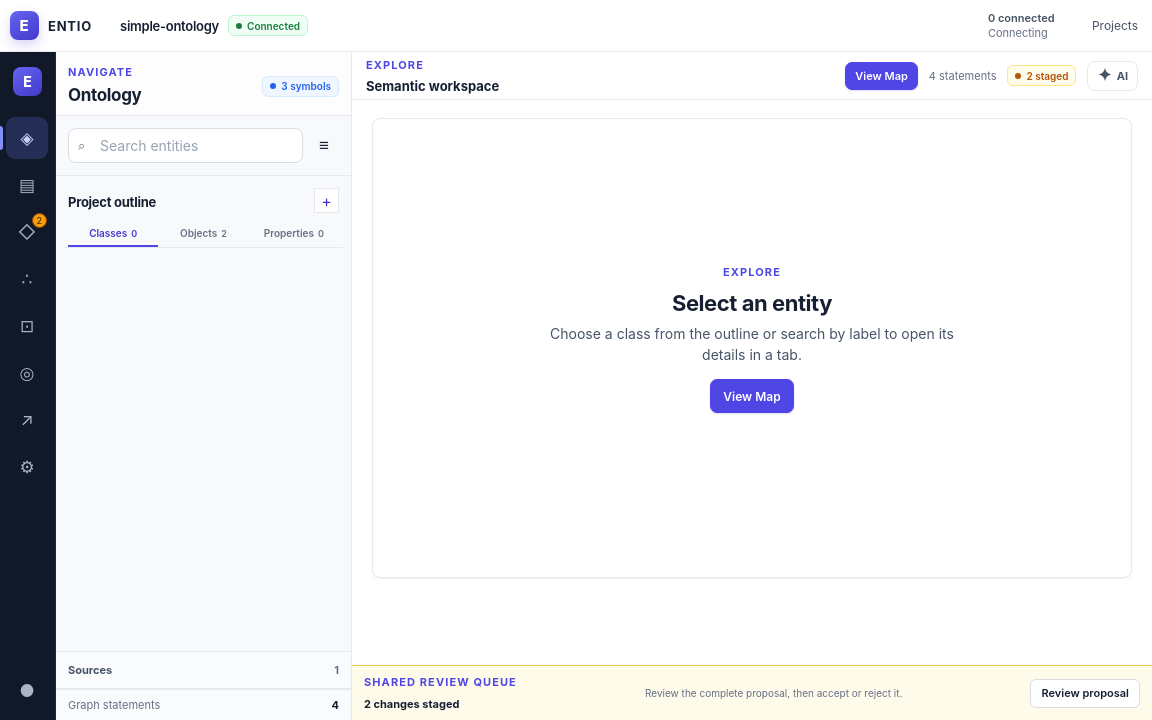
it: web workbench shell › opens a staged individual from the normal object outline
This screenshot has width=1152, height=720.
Click the tab "Objects 2" at [203, 234], box [158,220,249,247]
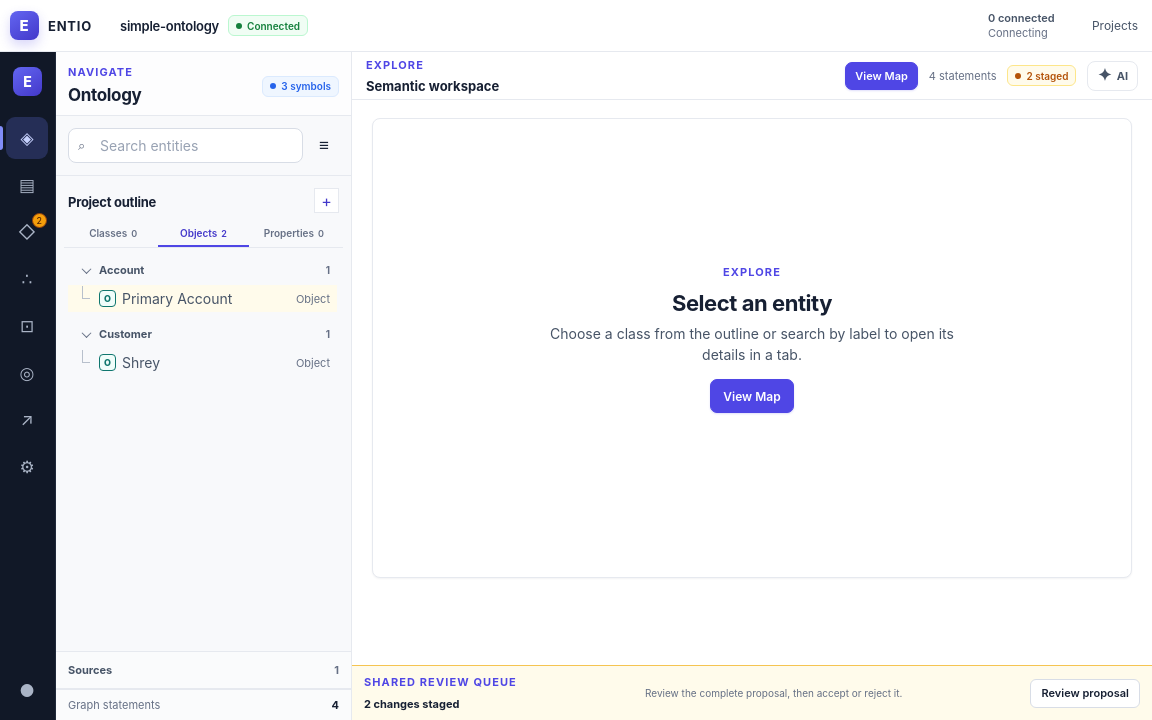
Expected: the button with class "object-group-label" reads "Account", [99,263,144,277]
Click the button with aria-label "Primary Account, Object" at [202, 298], box [68,285,337,312]
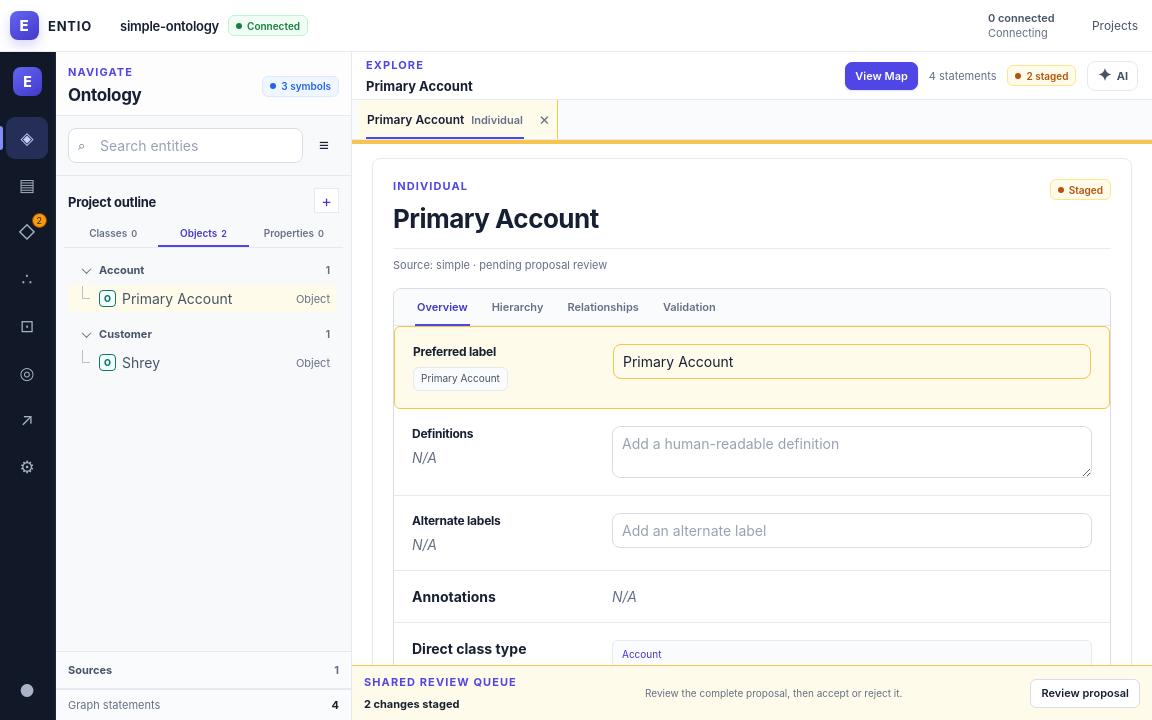
Expected: the heading "Primary Account" is shown, [393,203,599,234]
Expected: the text "Source: simple · pending proposal review" is shown, [393,258,607,272]
Click the tab "Hierarchy" at [518, 307], box [481,289,554,325]
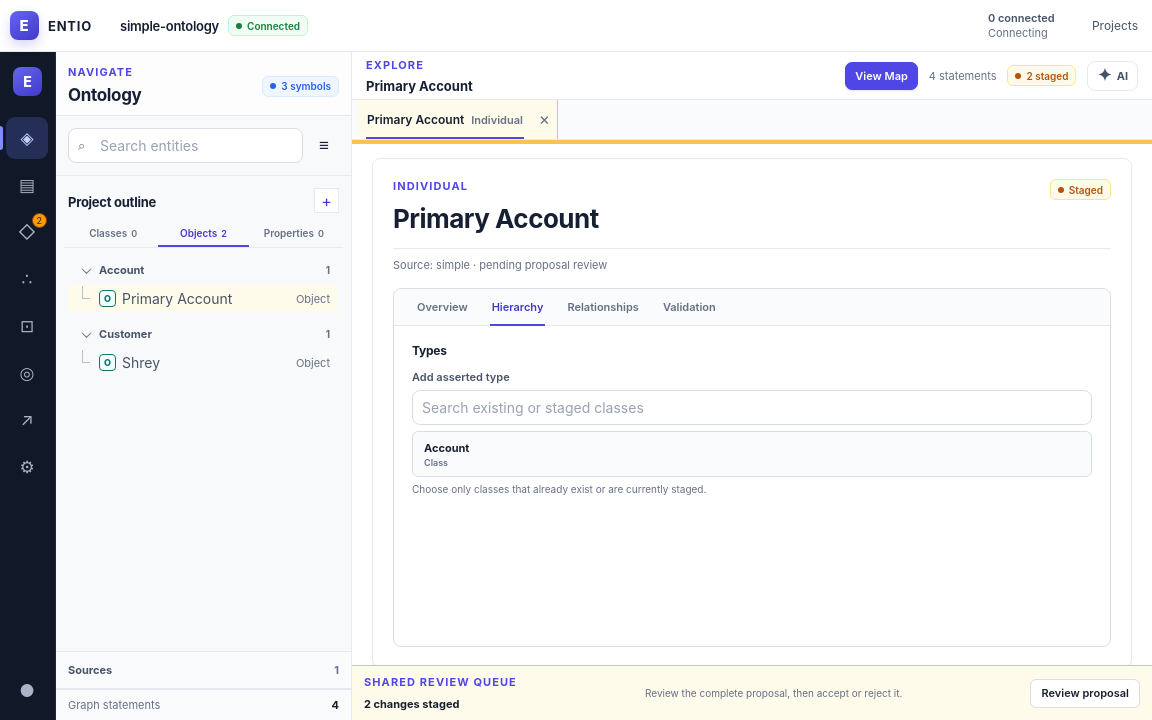
Expected: the list named "Selected add asserted type" shows "Account", [424,441,469,455]
